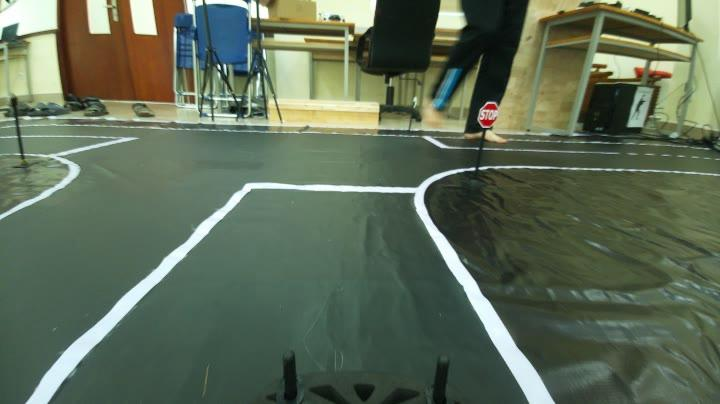stop: (475, 98, 504, 136)
